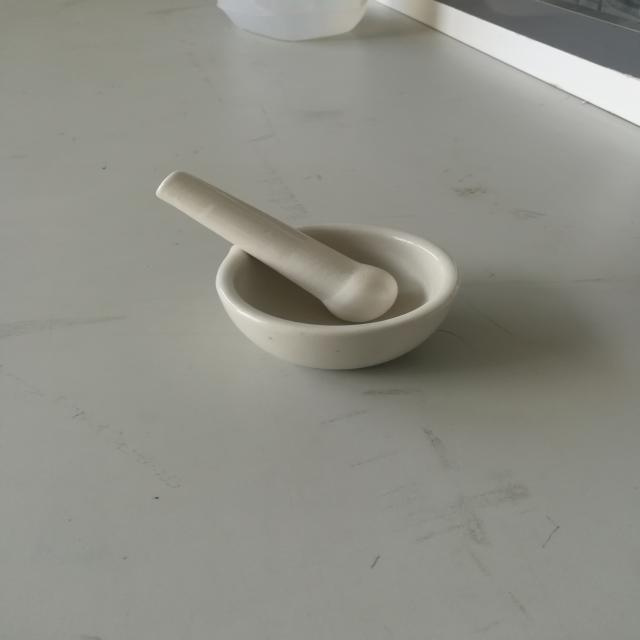Porcelain_Mortar Pestle: (127, 125, 504, 436)
